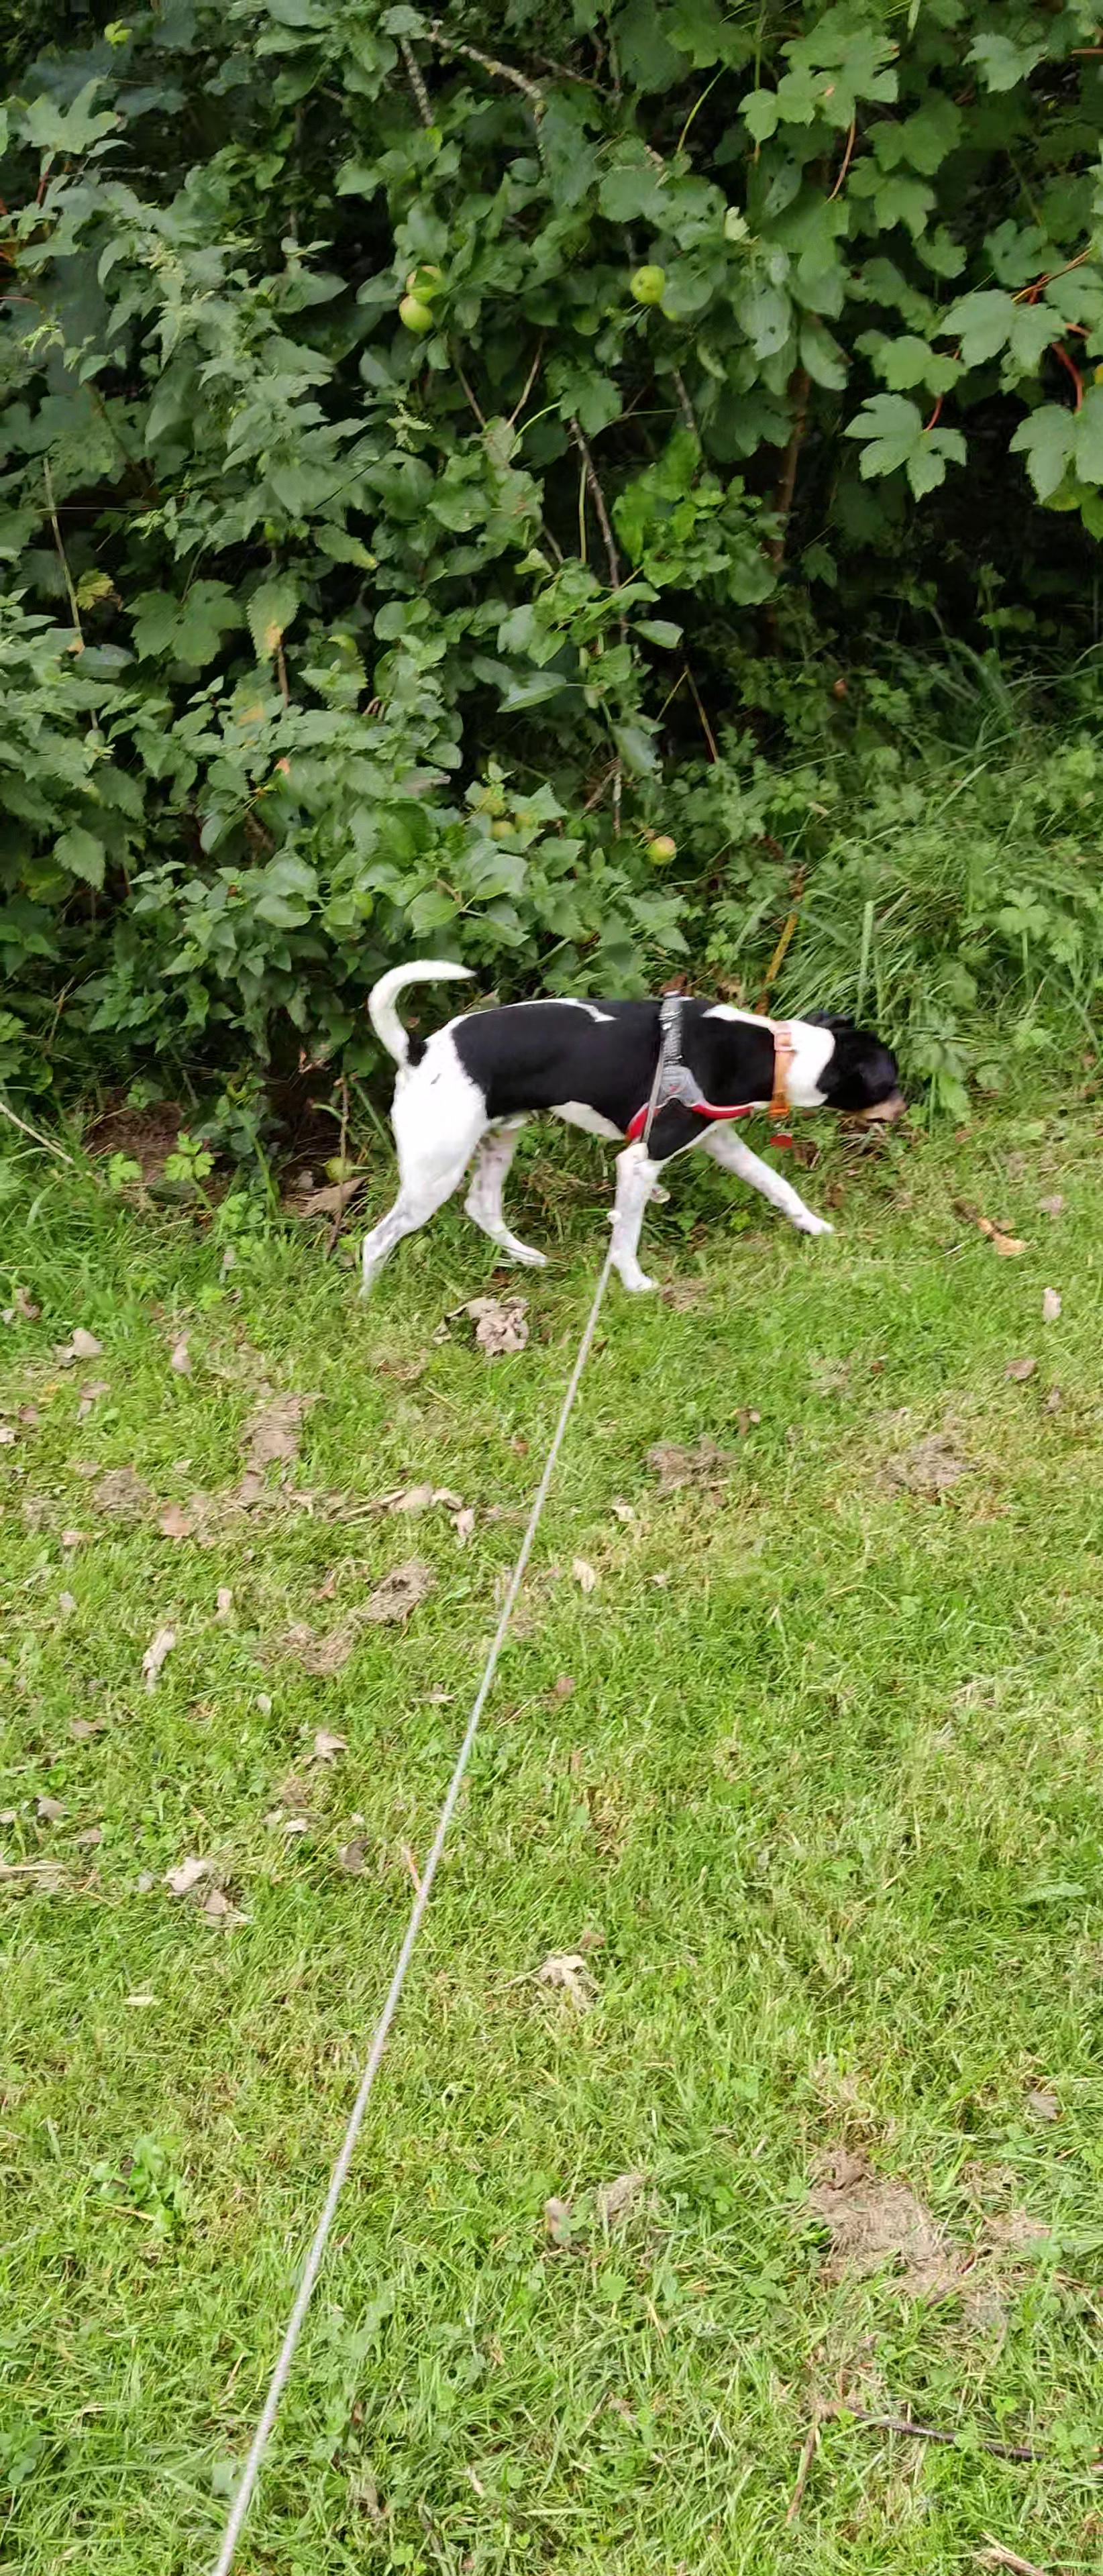Dog: (358, 940, 921, 1301)
